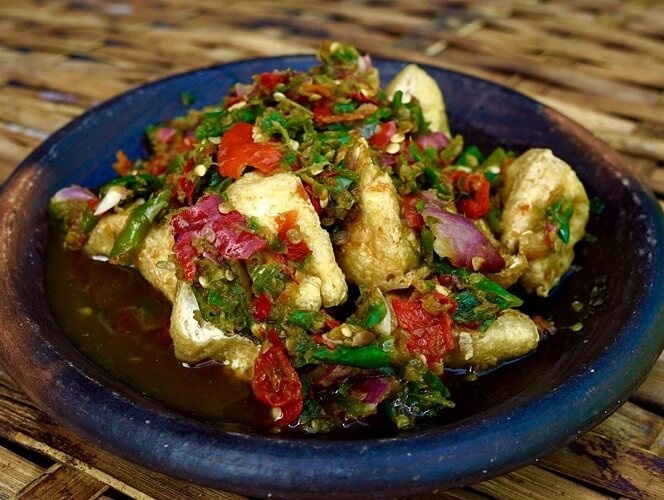tahu_gejrot: (50, 43, 591, 444)
